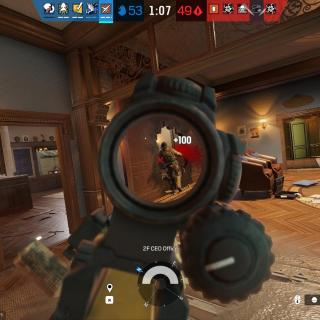Character: (158, 141, 183, 194)
Head: (161, 142, 168, 150)
